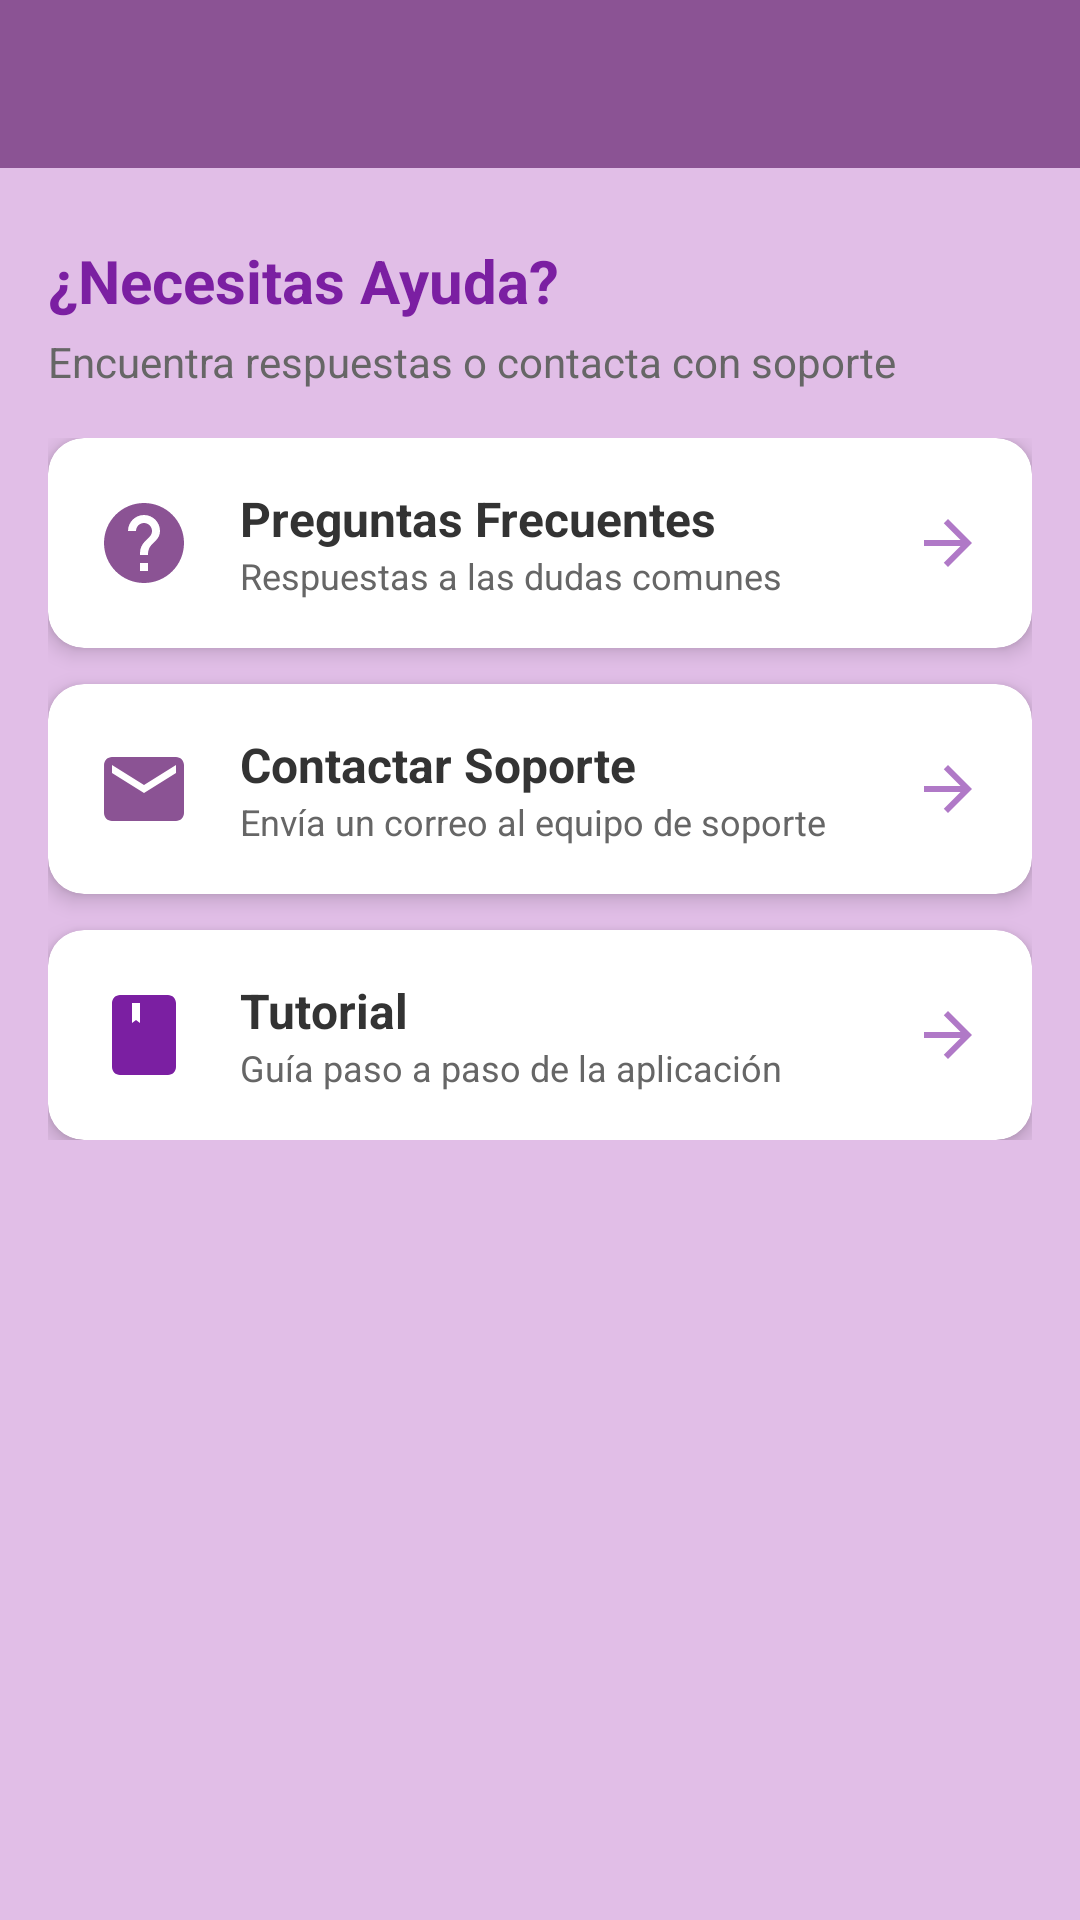

Named icons in this screenshot (1080x1920) and their bounding boxes, (x1, y1, x2, y2):
arrow forward: (924, 519, 972, 567), (924, 765, 972, 813), (924, 1011, 972, 1059)
book: (112, 995, 176, 1075)
email: (104, 757, 184, 821)
help: (104, 503, 184, 583)
